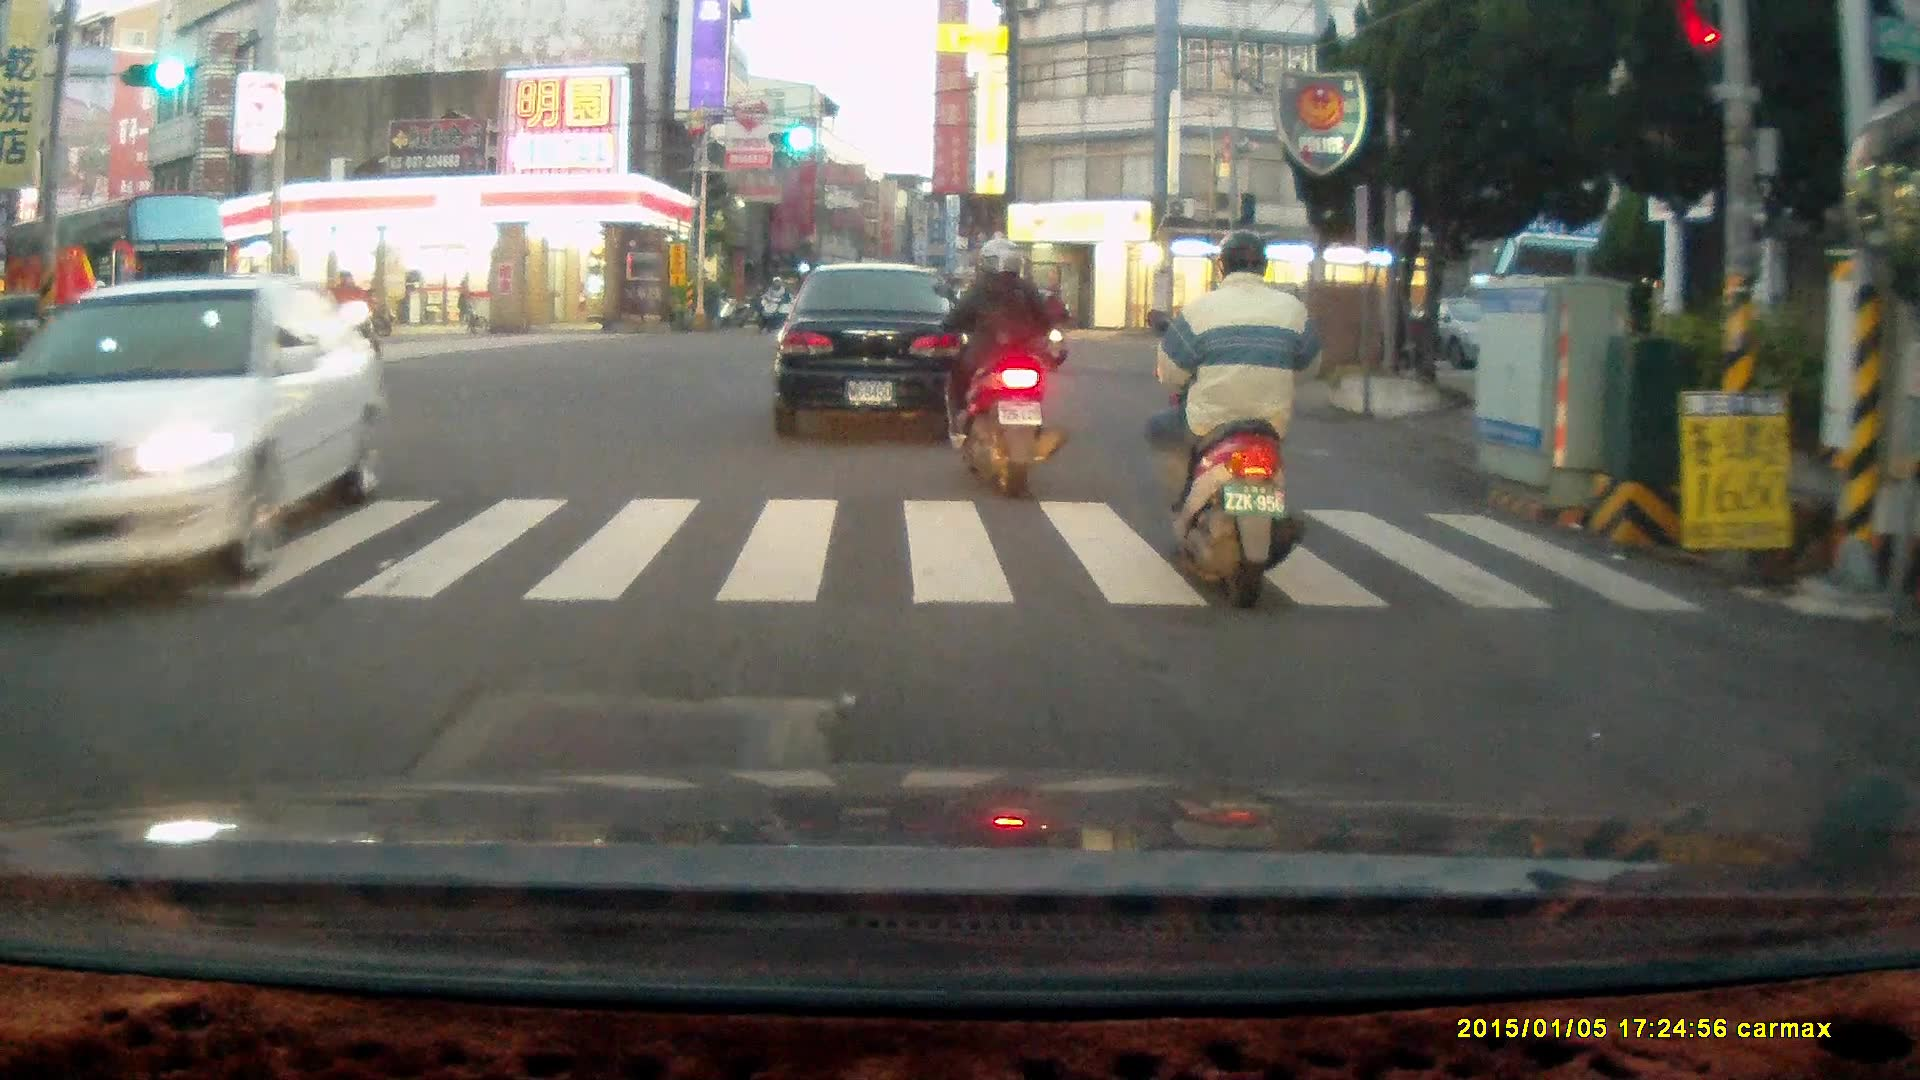rider: (1140, 227, 1311, 612), (931, 231, 1067, 498), (323, 272, 386, 391), (755, 274, 785, 329)
vehicle: (11, 275, 378, 650), (769, 260, 981, 440), (13, 192, 233, 354)
